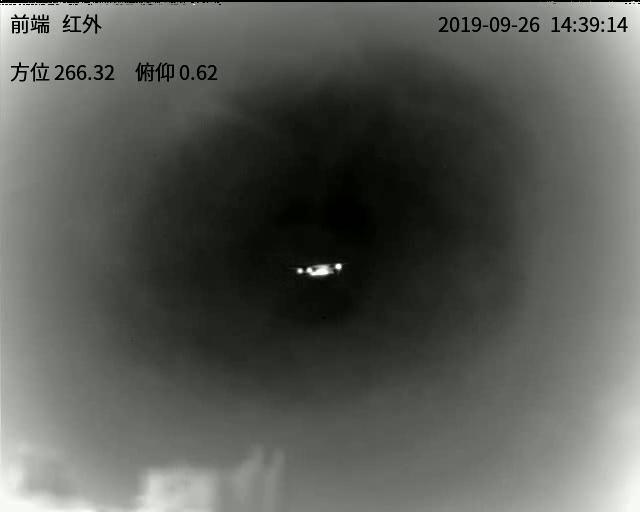DRONE: (294, 262, 344, 278)
